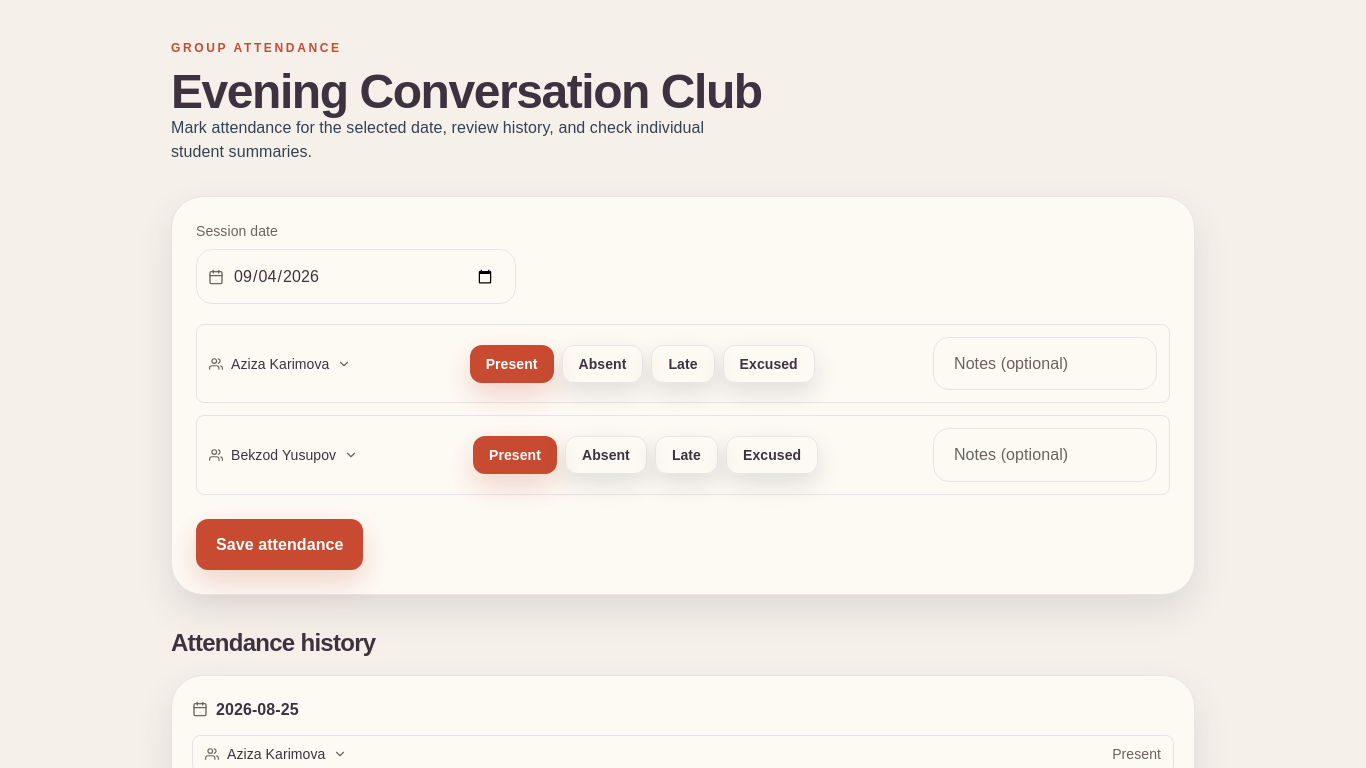
Test: Attendance page › shows a per-student summary inline after clicking their name
This screenshot has width=1366, height=768.
Click the button "Aziza Karimova" below "Session date" at (280, 364), box [209, 354, 351, 374]
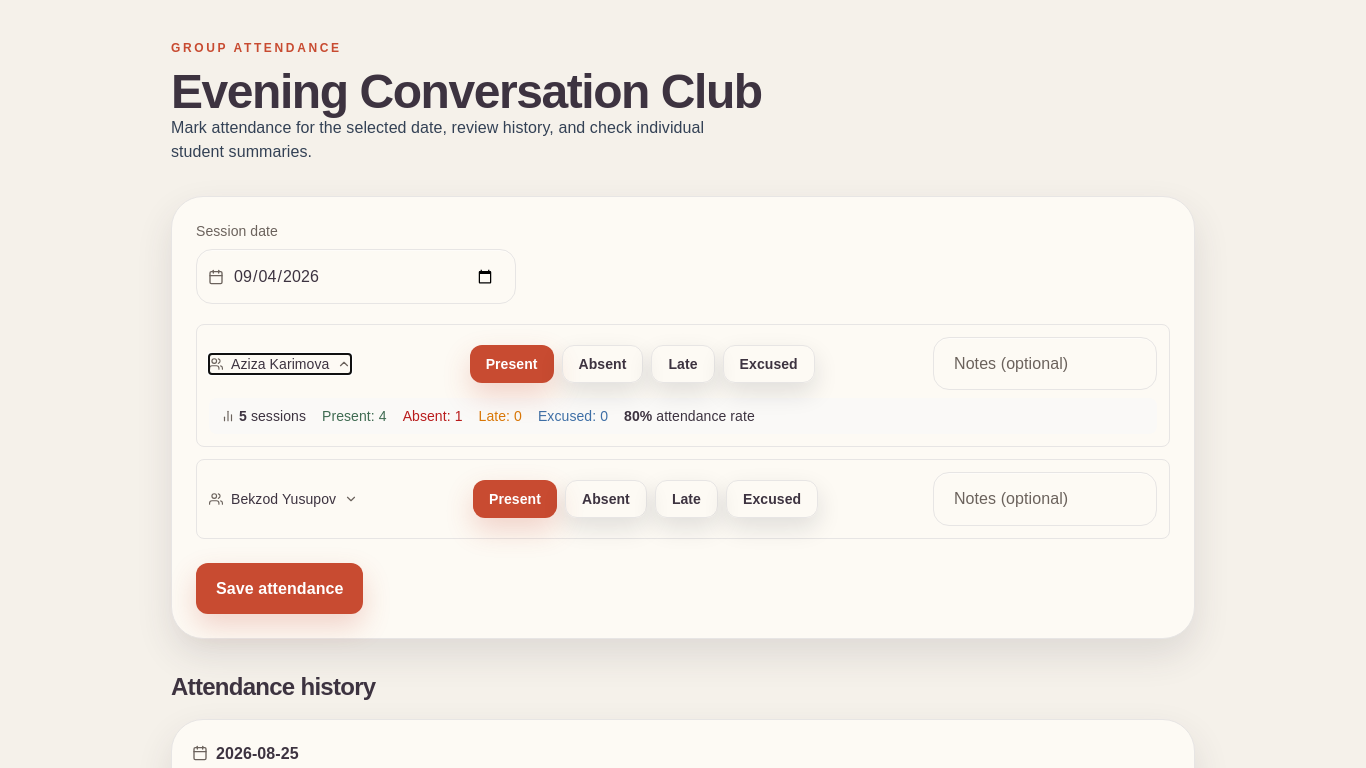
Check: the text "80%" is shown, box [624, 408, 652, 424]
Check: the text "5" is shown, box [239, 406, 247, 426]
